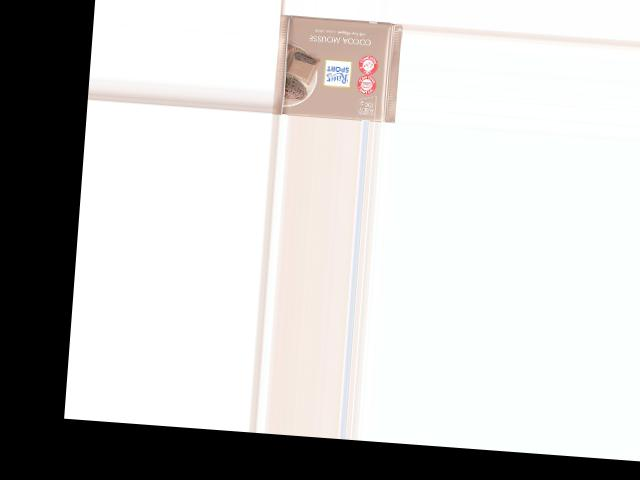chocolate: (272, 13, 400, 122)
